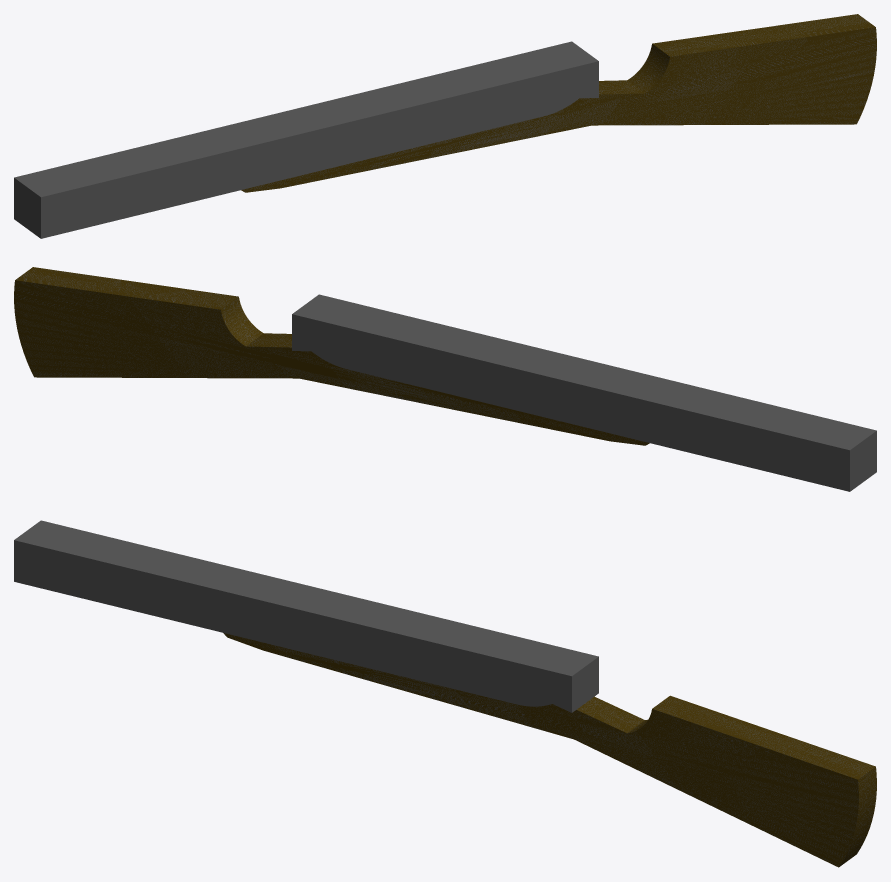
The model's file is rifle.dae.
3 renders of one model, top to bottom at view 1: azimuth 30°, elevation 25°; view 2: azimuth 150°, elevation 25°; view 3: azimuth 330°, elevation 25°, orthographic.
Visible parts, largest first — view 1: group_0 (×2); view 2: group_0 (×2); view 3: group_0 (×2).
Boxes of the visible parts, <box> form: group_0 (×2): <box>14,14,876,238</box>; group_0 (×2): <box>14,267,876,491</box>; group_0 (×2): <box>14,520,876,867</box>.
Size of the model in its own units: 42.43 by 2.36 by 6.3.
